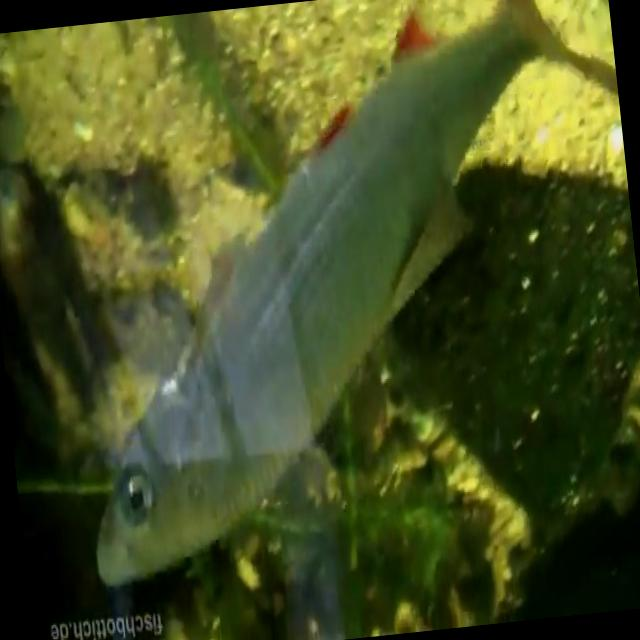Cakil Baligi: (35, 0, 623, 605)
